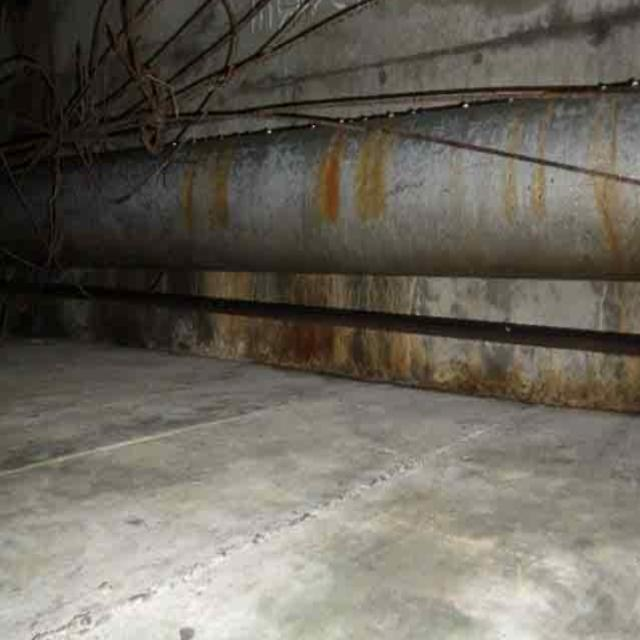corrosion: (69, 220, 428, 390)
